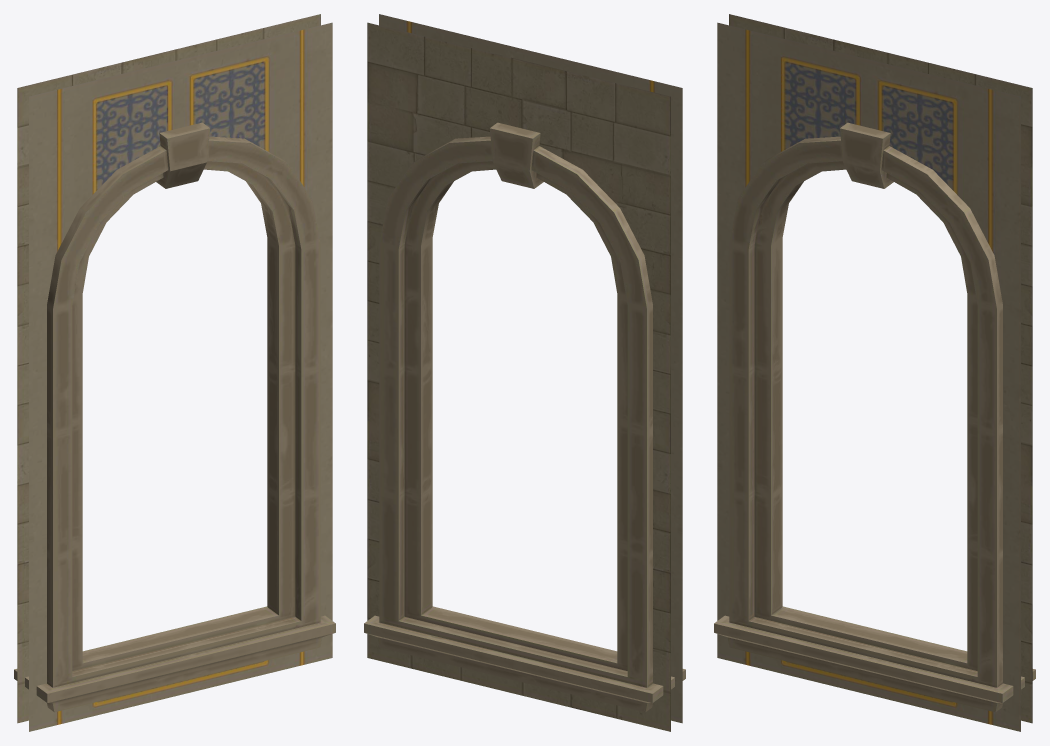
File: ARC0510026.fbx
3 renders of one model, left to right at view 1: azimuth 30°, elevation 25°; view 2: azimuth 150°, elevation 25°; view 3: azimuth 330°, elevation 25°, orthographic.
Parts seen in each view (by area): view 1: smARC0510026; view 2: smARC0510026; view 3: smARC0510026.
Part boxes in pixels (x1,y1,x2,y2): smARC0510026: [14, 14, 335, 731]; smARC0510026: [364, 14, 685, 731]; smARC0510026: [714, 14, 1035, 731].
Bounding box in the file's own units: 300 × 600 × 57.08.
Materials: 1 (1 with a texture image).
